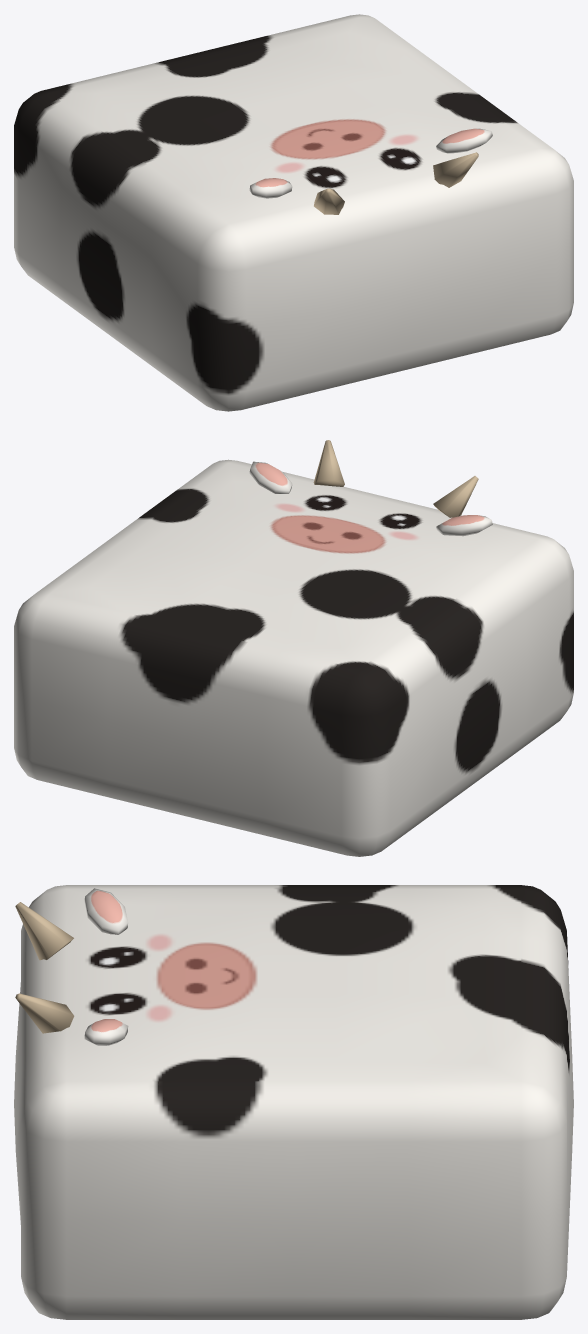
The model's file is Cow_2x2.fbx.
The picture shows the model from 3 angles, top to bottom: view 1: azimuth 30°, elevation 25°; view 2: azimuth 150°, elevation 25°; view 3: azimuth 270°, elevation 25°; orthographic projection. The views are drawn at different scales.
Parts seen in each view (by area): view 1: Cow_2x2; view 2: Cow_2x2; view 3: Cow_2x2.
Boxes of the visible parts, x1,y1,x2,y2 form: Cow_2x2: [14, 14, 573, 411]; Cow_2x2: [14, 440, 573, 856]; Cow_2x2: [14, 885, 573, 1319].
Size of the model in its own units: 1.97 by 1.02 by 1.97.
1 material, 1 textured.
